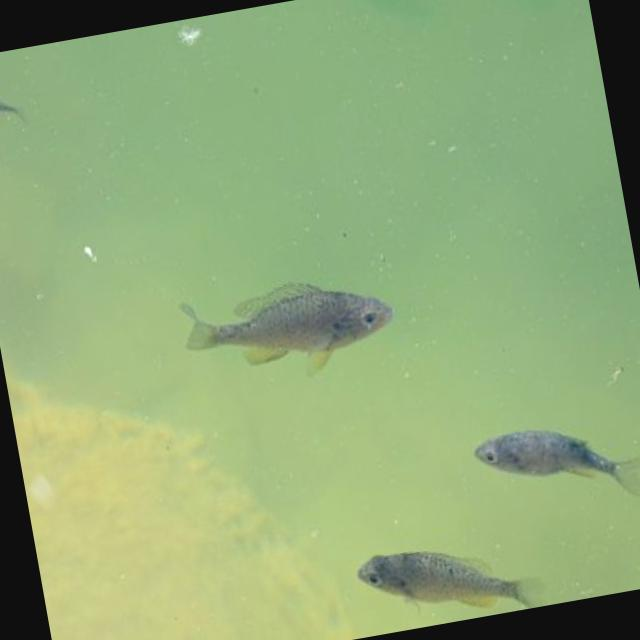Gunes Levregi: (164, 255, 416, 406)
